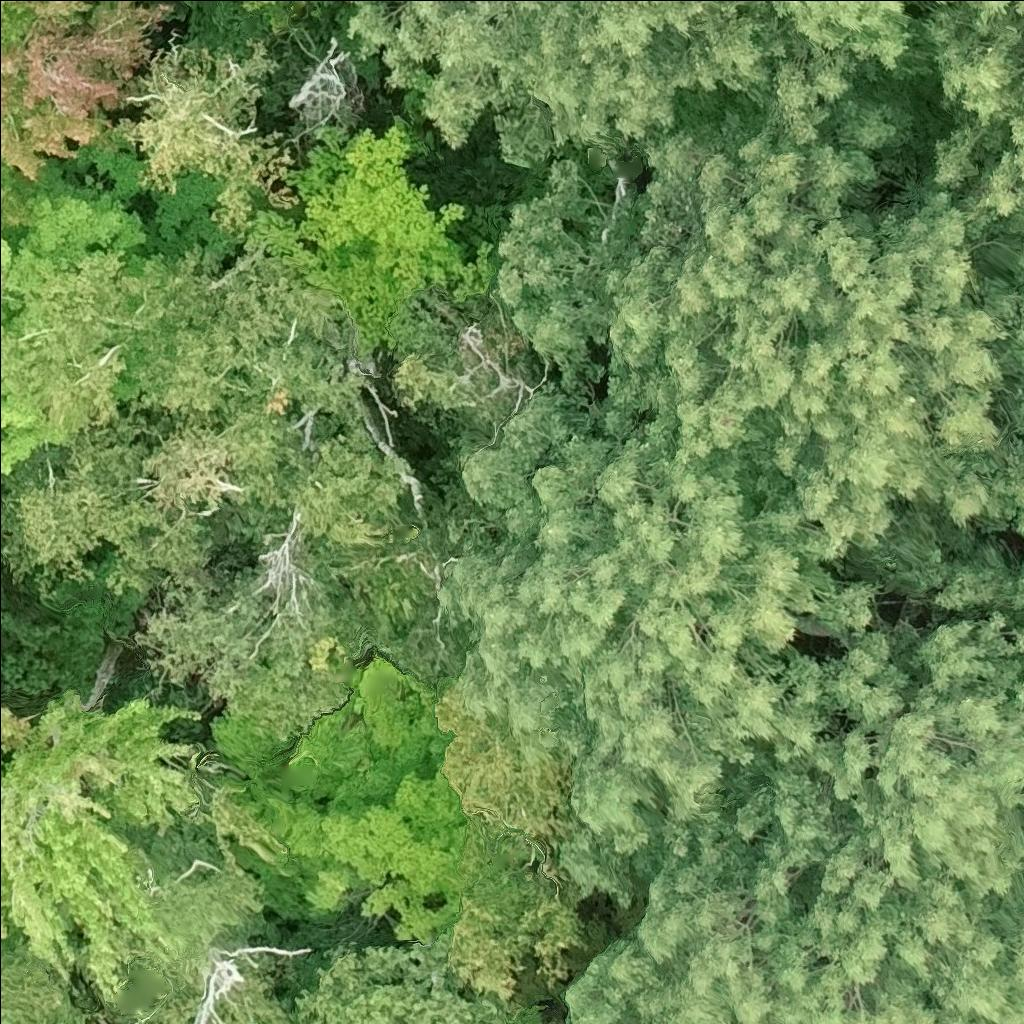crown: (491, 48, 1023, 599), (341, 0, 960, 170), (0, 688, 207, 997), (0, 0, 178, 198), (907, 0, 1023, 279), (0, 157, 149, 334), (0, 934, 91, 1023), (0, 372, 44, 476), (0, 166, 33, 245), (237, 0, 301, 31), (0, 514, 13, 608)
